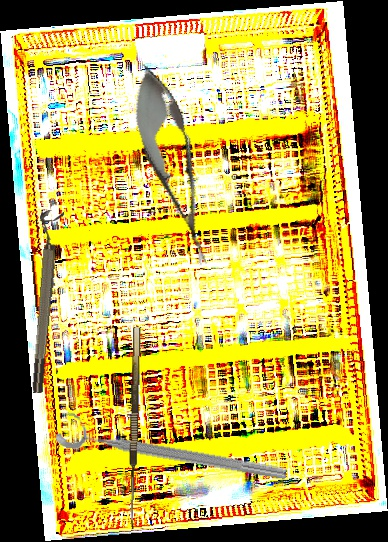Fixation Ring: (54, 409, 291, 486), (21, 209, 65, 394)
Hook Surgical: (126, 326, 152, 530)
Micro Scissor: (118, 57, 229, 275)
